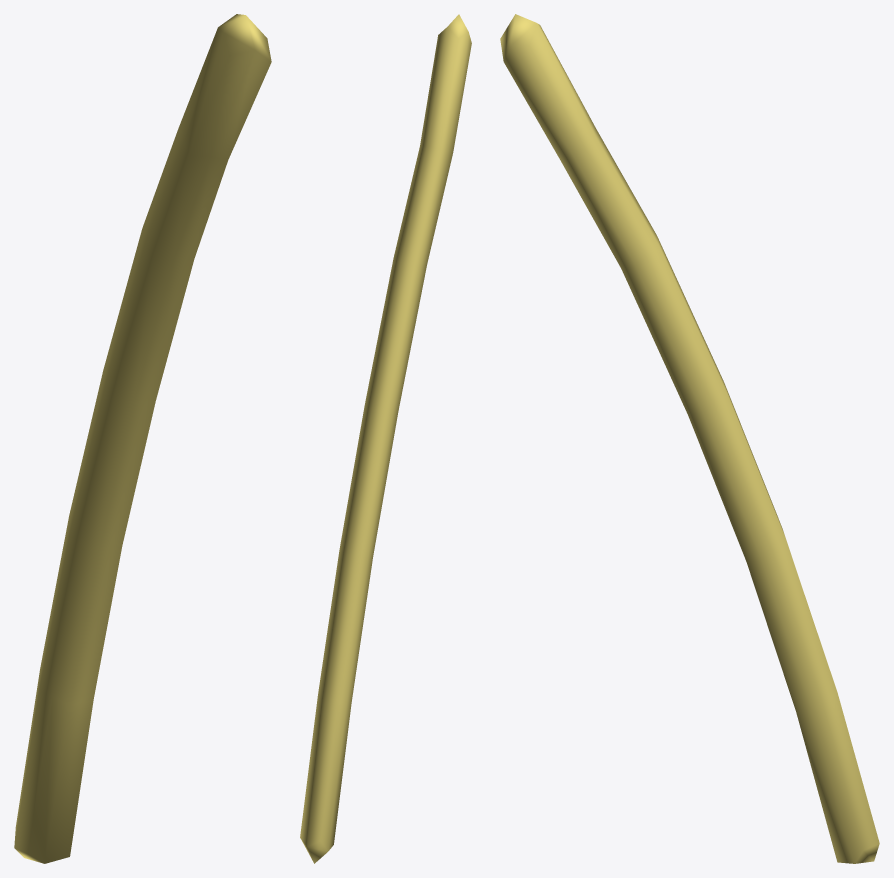
Rendered from nucleus-of-accessory-nerve-l.glb.
3 renders of one model, left to right at view 1: azimuth 30°, elevation 25°; view 2: azimuth 150°, elevation 25°; view 3: azimuth 270°, elevation 25°, orthographic. The views are drawn at different scales.
Visible parts, largest first — view 1: Nucleus of accessory nerve.l; view 2: Nucleus of accessory nerve.l; view 3: Nucleus of accessory nerve.l.
Part boxes in pixels (x1,y1,x2,y2): Nucleus of accessory nerve.l: (14,14,271,863); Nucleus of accessory nerve.l: (300,14,471,863); Nucleus of accessory nerve.l: (500,14,879,863).
Bounding box in the file's own units: 0.00137 × 0.0273 × 0.011.
